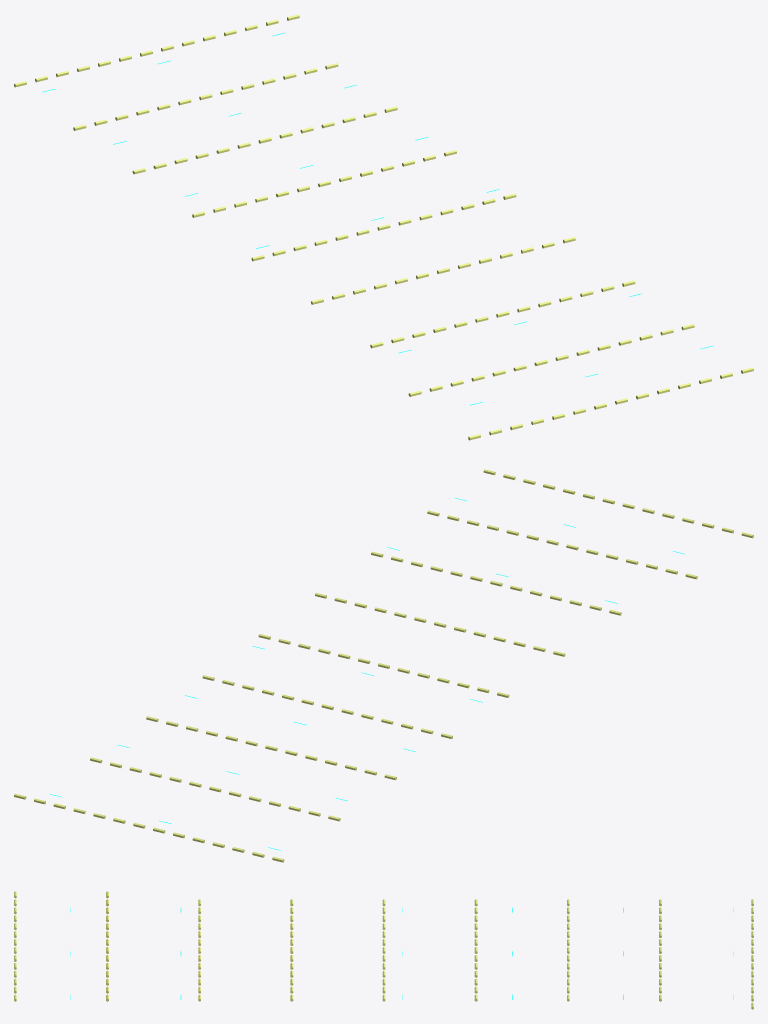
Rendered from tt_pool_lap_tank_c.glb.
3 views of the same model, one above another, from view 1: azimuth 30°, elevation 25°; view 2: azimuth 150°, elevation 25°; view 3: azimuth 270°, elevation 25° (orthographic). The views are drawn at different scales.
Parts seen in each view (by area): view 1: Lane_Floats; view 2: Lane_Floats; view 3: Lane_Floats.
Part boxes in pixels (x1,y1,x2,y2): Lane_Floats: [14, 14, 753, 440]; Lane_Floats: [14, 469, 753, 862]; Lane_Floats: [14, 891, 753, 1009].
Size of what is drawn, in the model's own units: 7.41 by 0.088 by 20.08.
